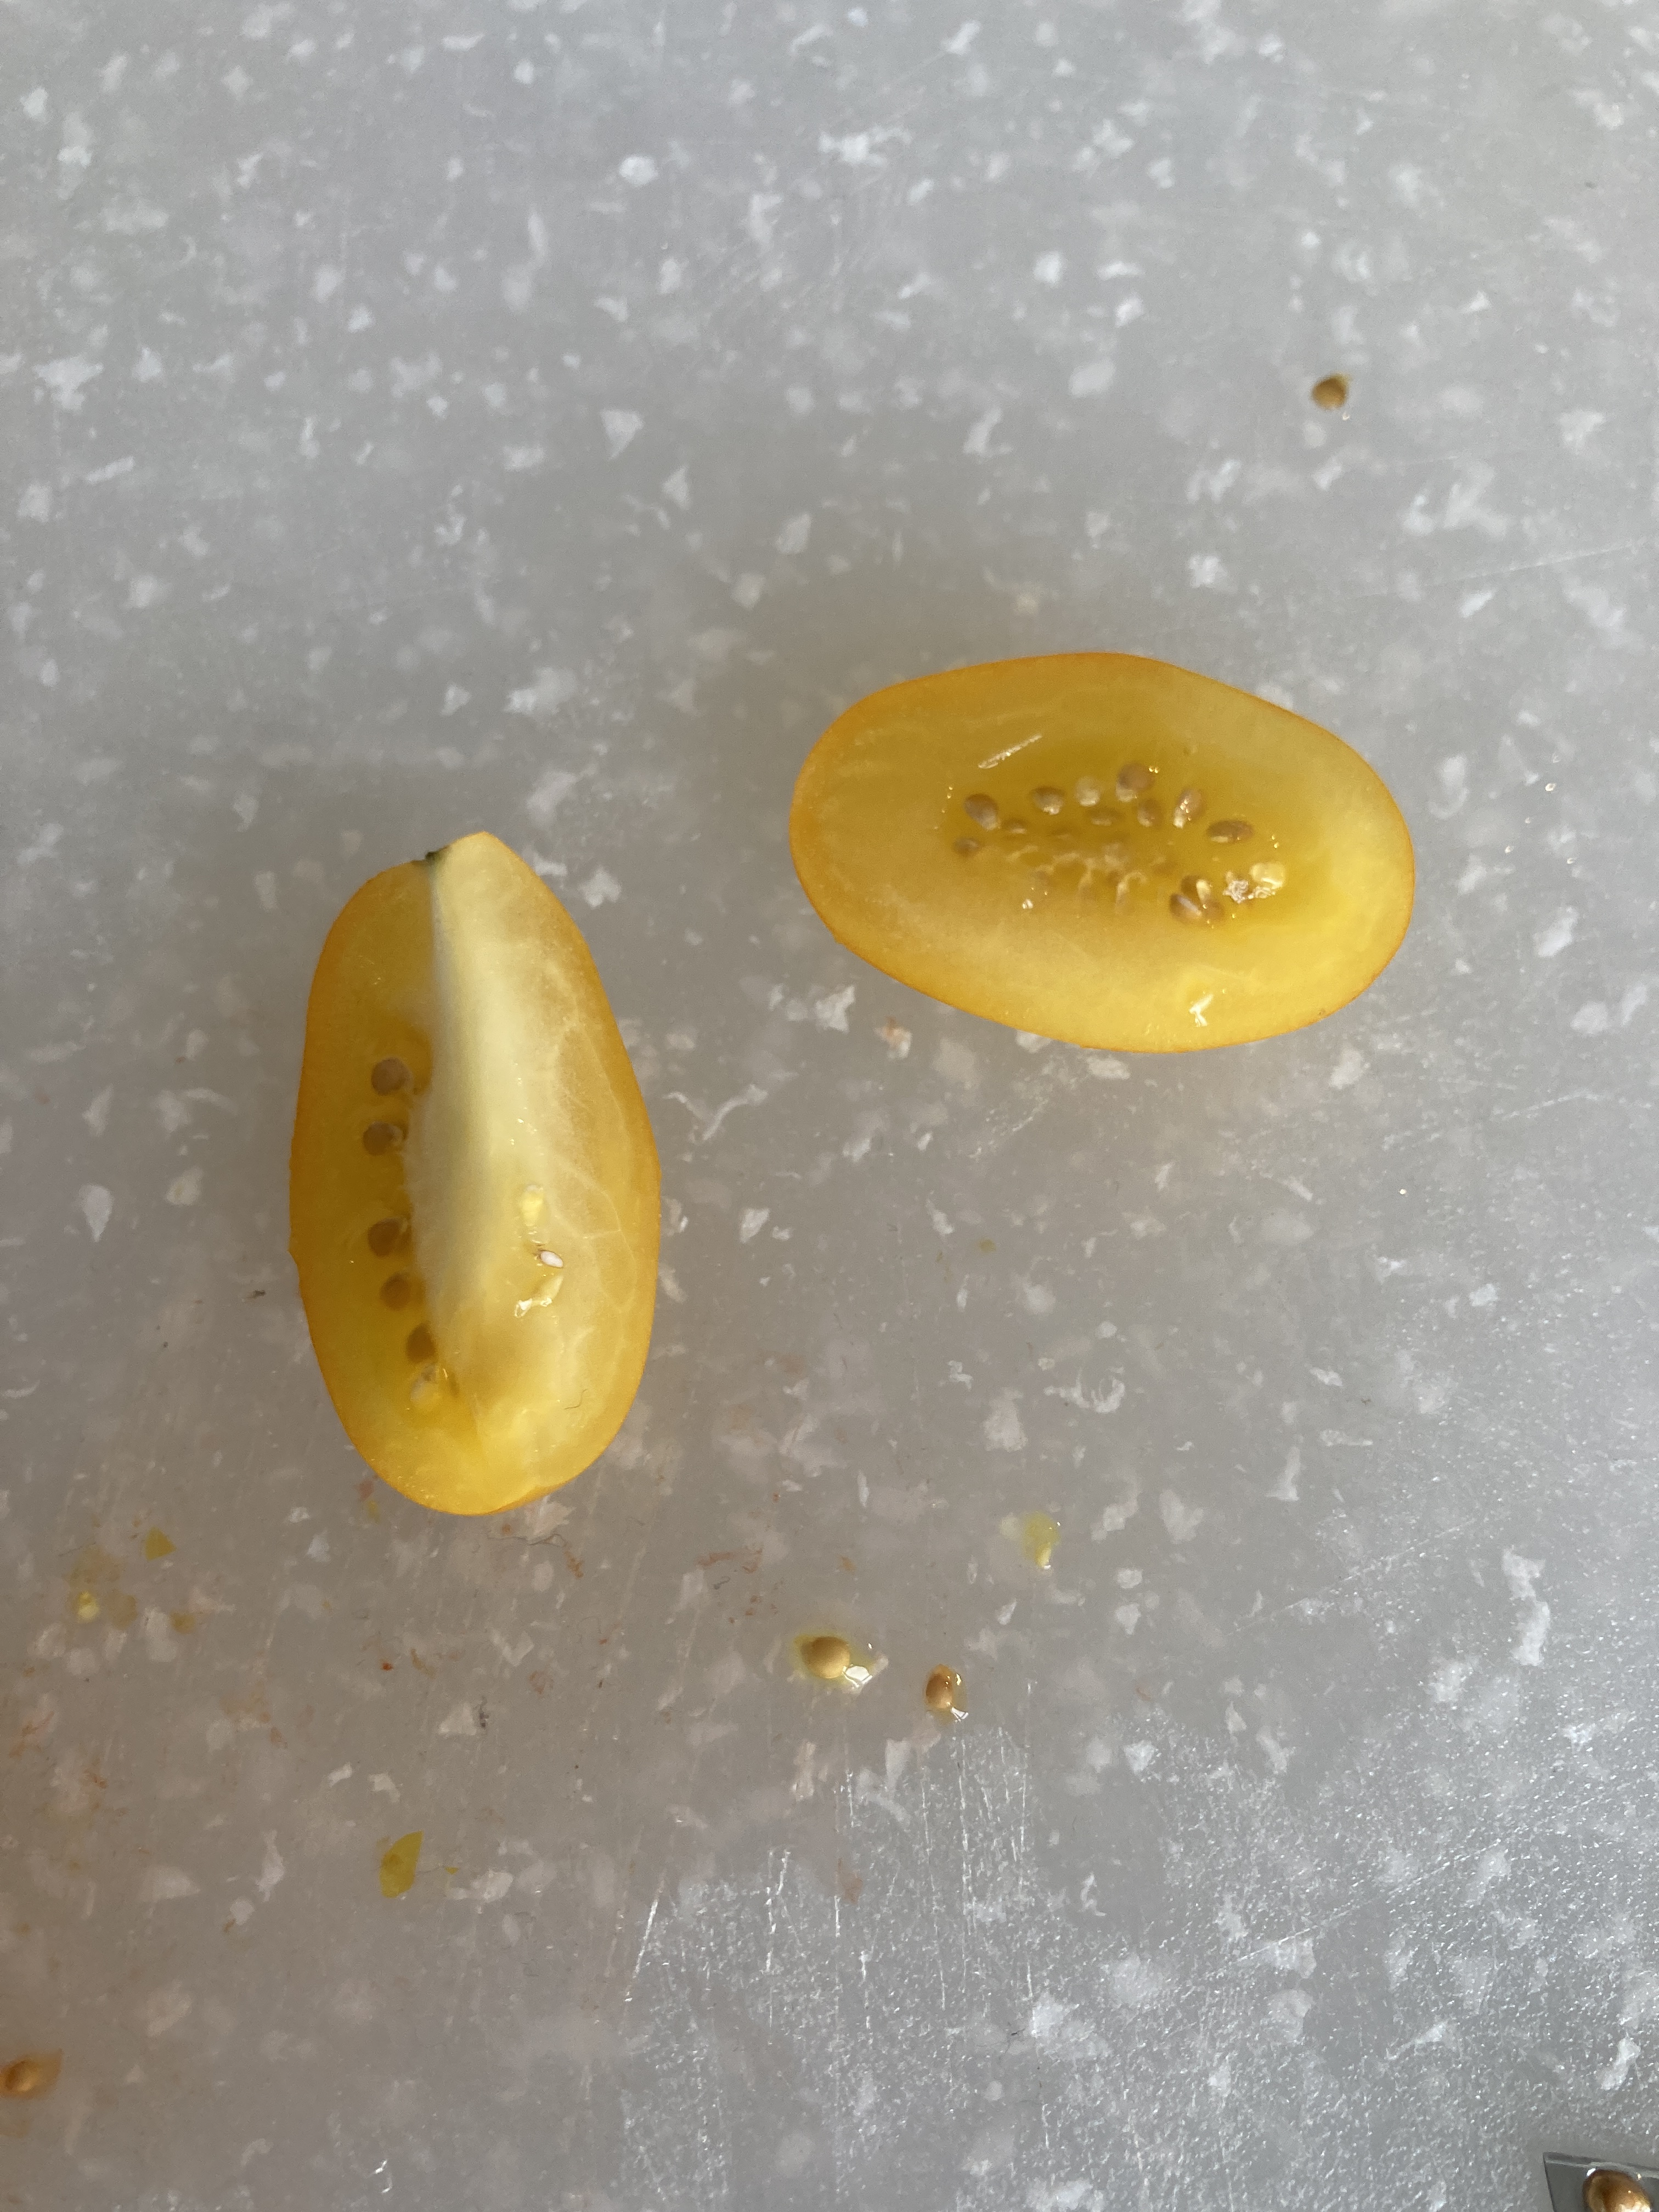healthy-tomato: (277, 827, 666, 1519), (777, 646, 1417, 1055)
